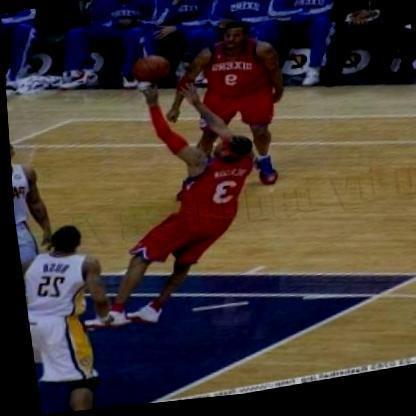basketball: (126, 52, 174, 90)
